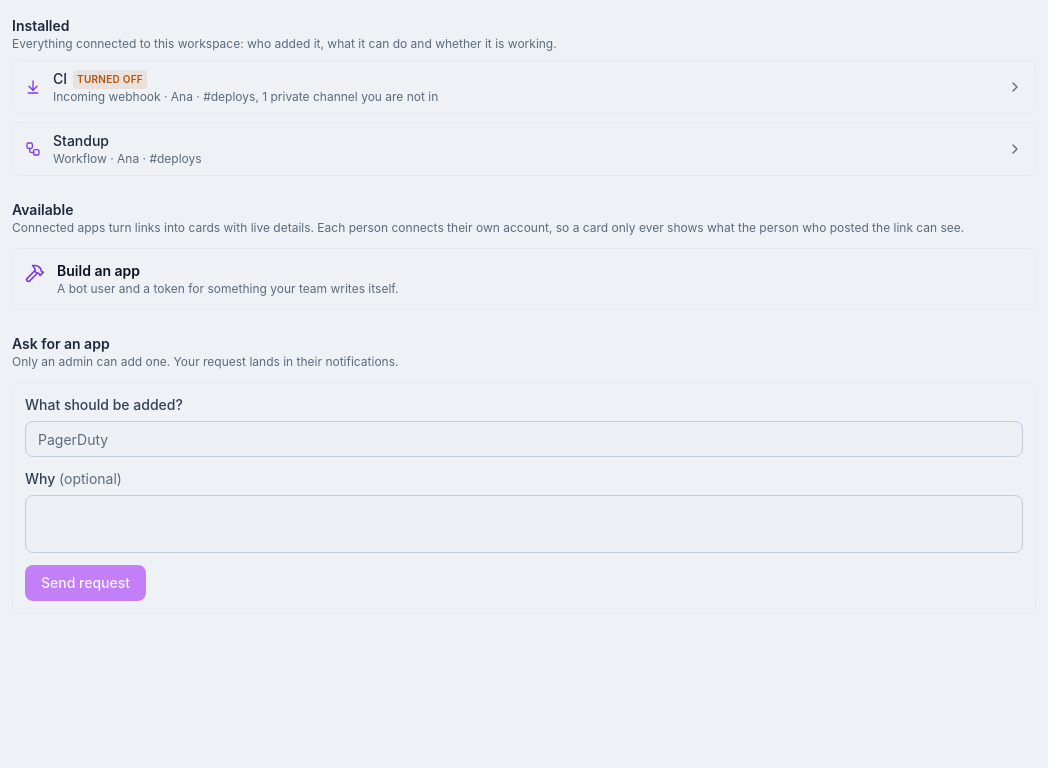
AppsSection › shows a member the directory read-only and lets them ask for an app
The width and height of the screenshot is (1048, 768).
Type " PagerDuty " into the field with test id "app-request-name" at (524, 439), box x1=25 y1=421 x2=1023 y2=457
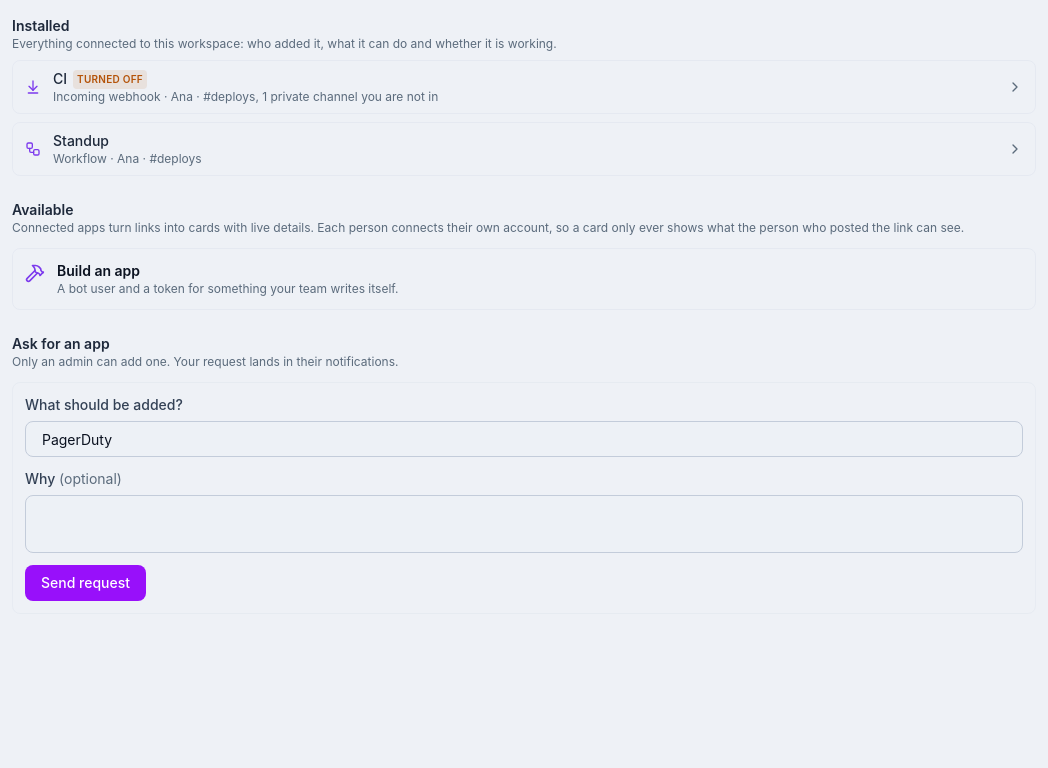
Type "On-call alerts" into the text box with test id "app-request-reason" at (524, 524), box x1=25 y1=495 x2=1023 y2=553
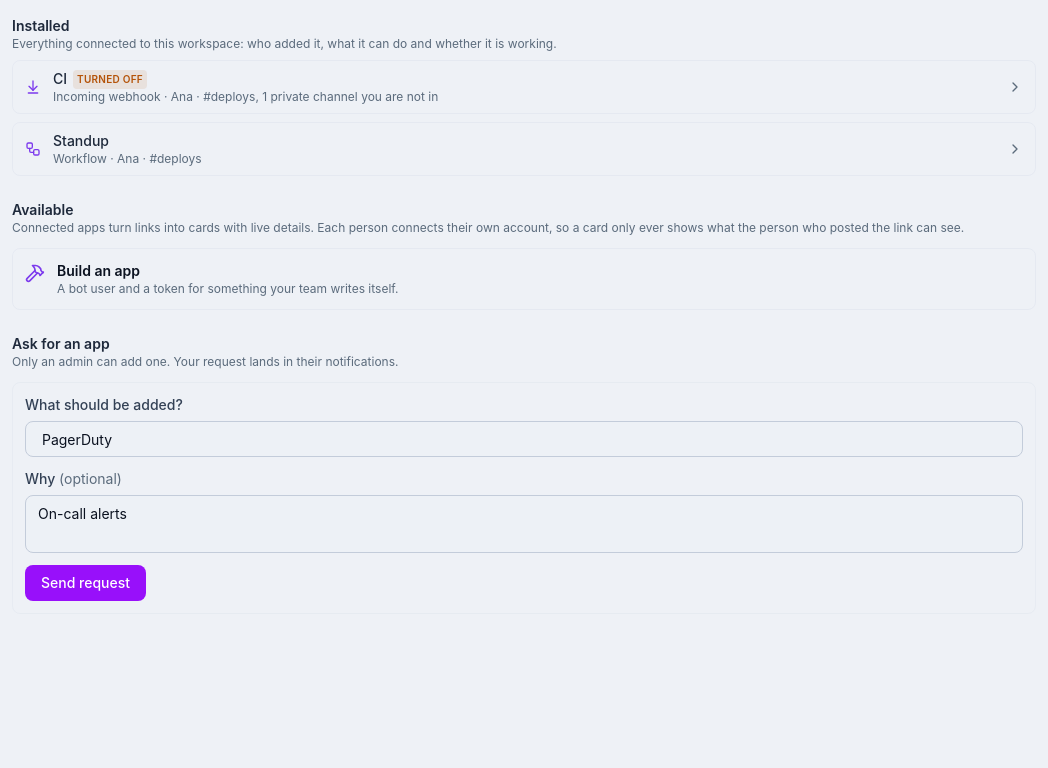
Click the button with test id "app-request-send" at (86, 583), box x1=25 y1=565 x2=146 y2=601
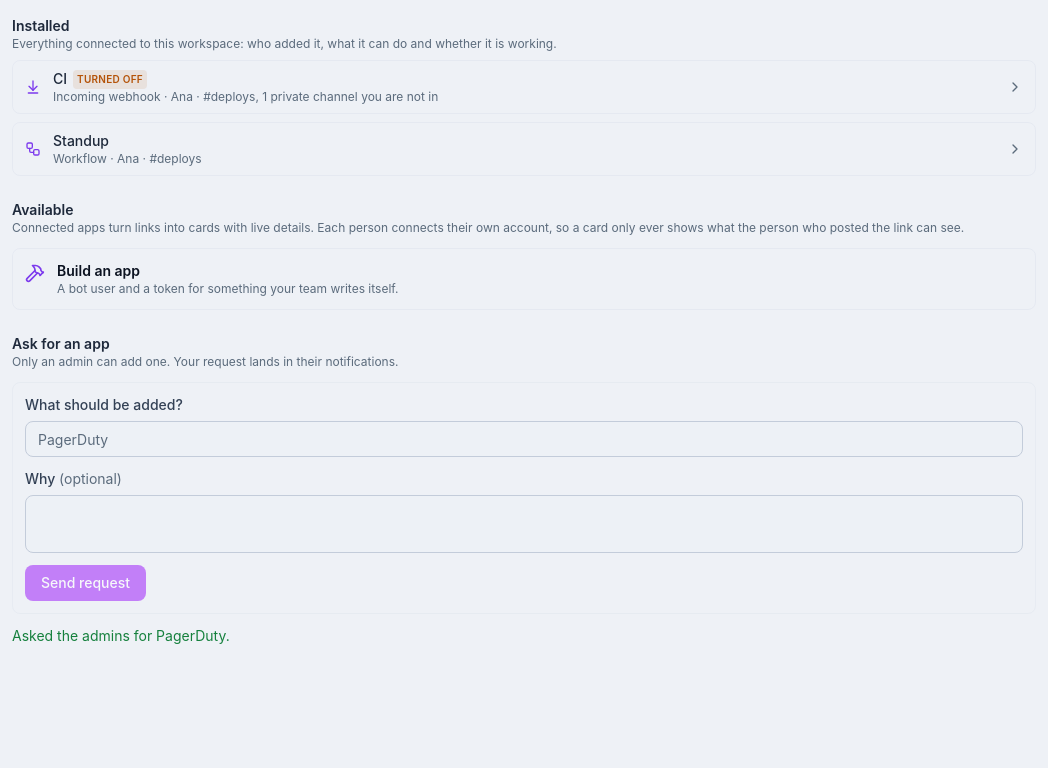
Expected: the text with test id "app-request-sent" shows "Asked the admins for PagerDuty", x1=12 y1=627 x2=230 y2=644
Click the button with test id "app-directory-row" at (110, 79), box x1=12 y1=60 x2=1036 y2=114
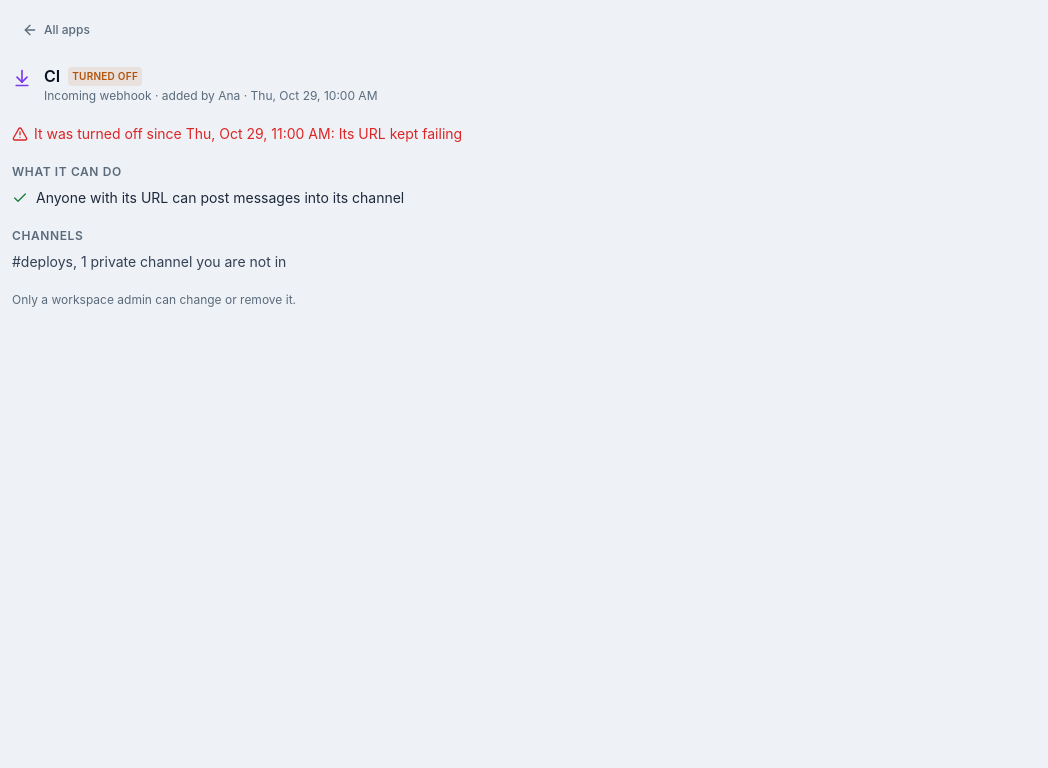
Expected: the text "Only a workspace admin can change or remove it." is shown, x1=12 y1=292 x2=296 y2=307
